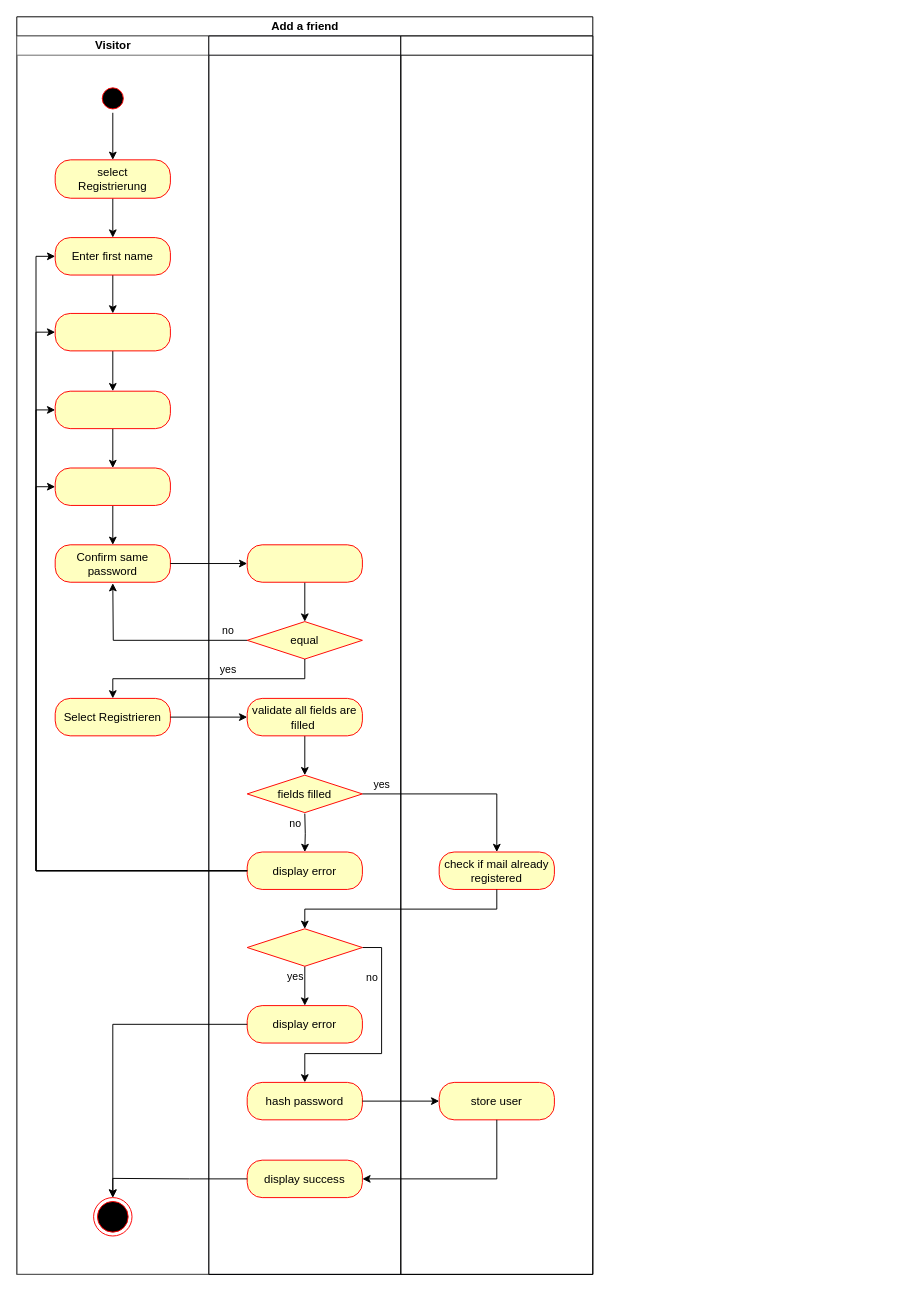
This 916x1291 diagram has some shape labels left out. The box of each missing label's shape, as (x1, y1, x2, y2) in pixels:
Application: (208, 35, 401, 1274)
Database: (400, 35, 593, 1274)
Enter email: (54, 390, 170, 429)
Enter password: (54, 467, 170, 505)
Enter surname: (54, 312, 170, 351)
mail registered: (246, 928, 362, 966)
validate passwords are equal: (246, 544, 362, 582)
